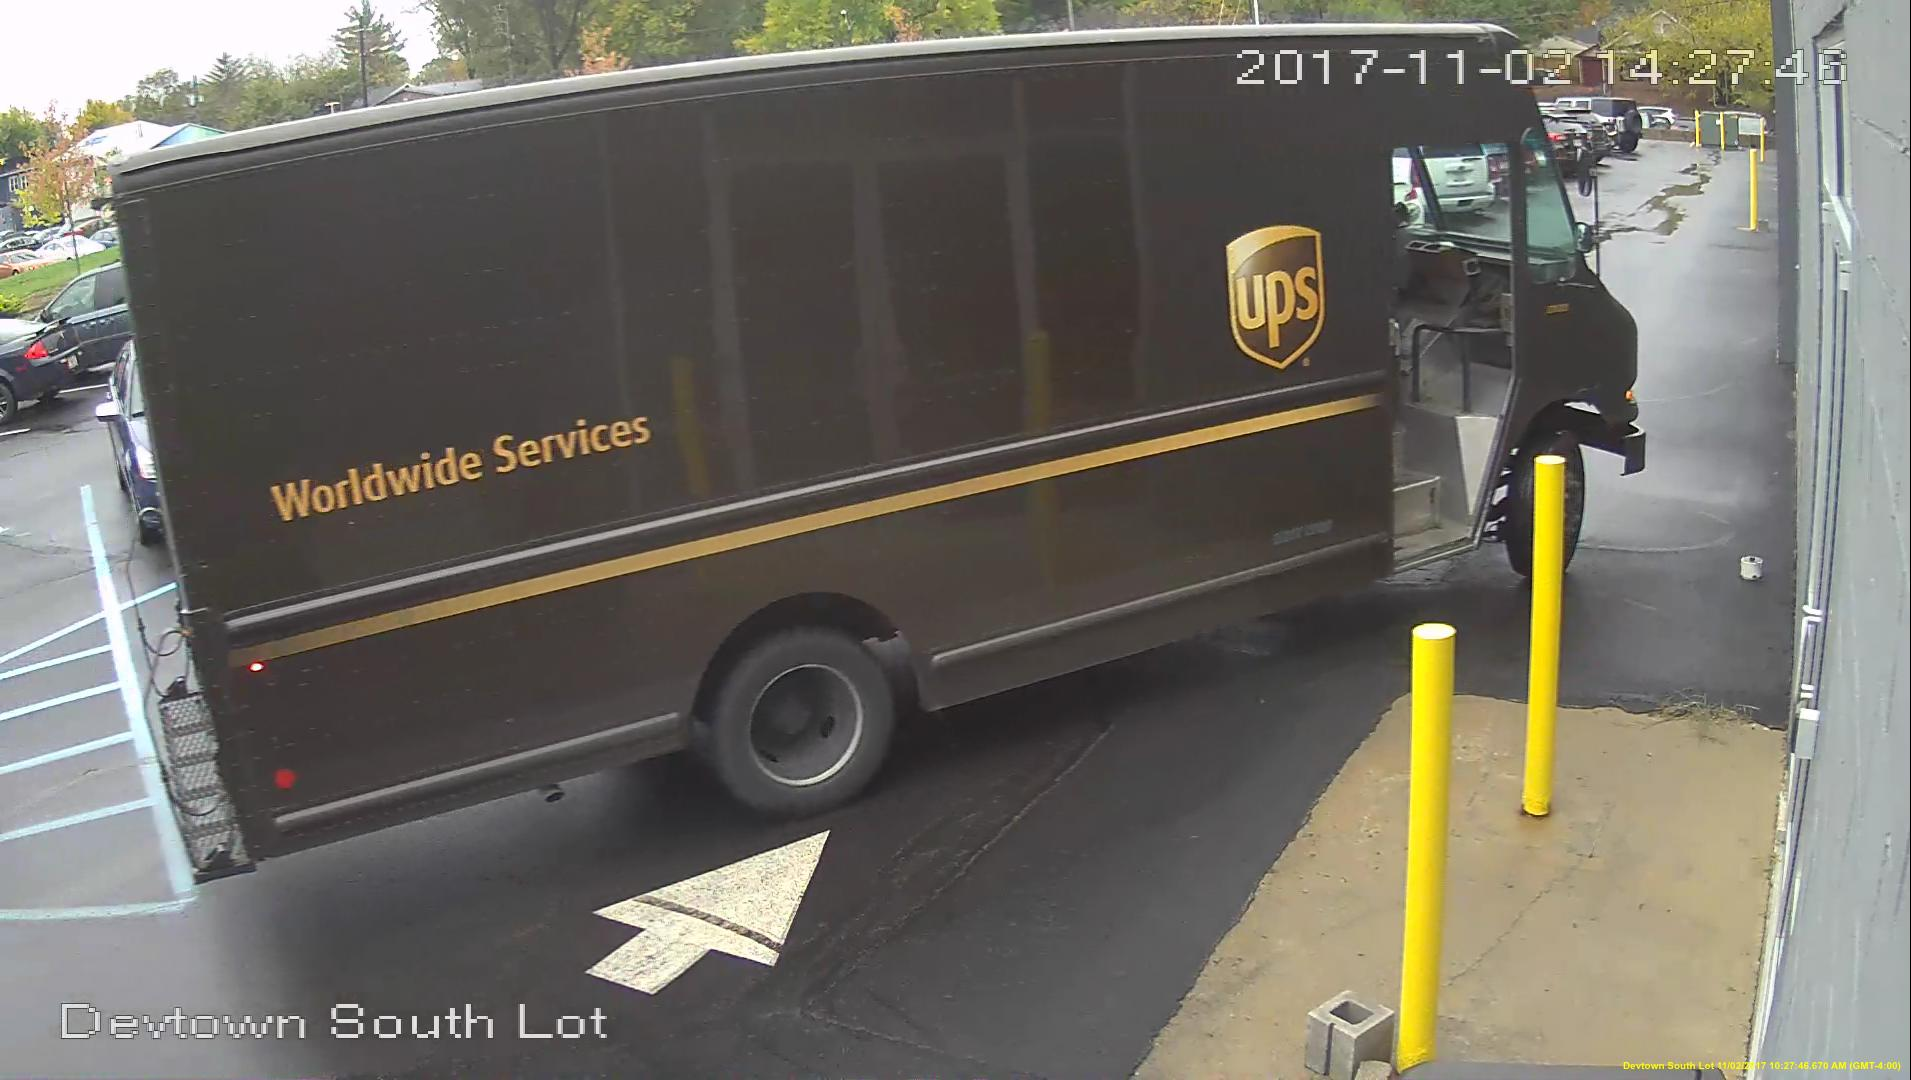ups_truck: (115, 21, 1642, 881)
